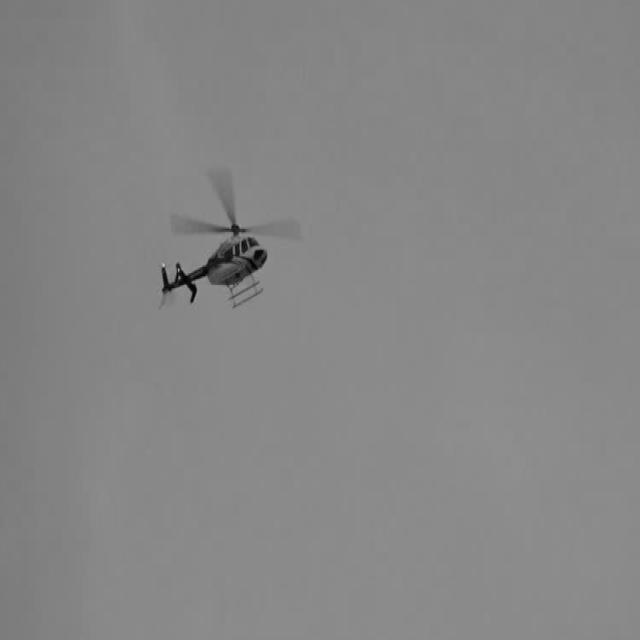helicopter: (159, 169, 300, 315)
